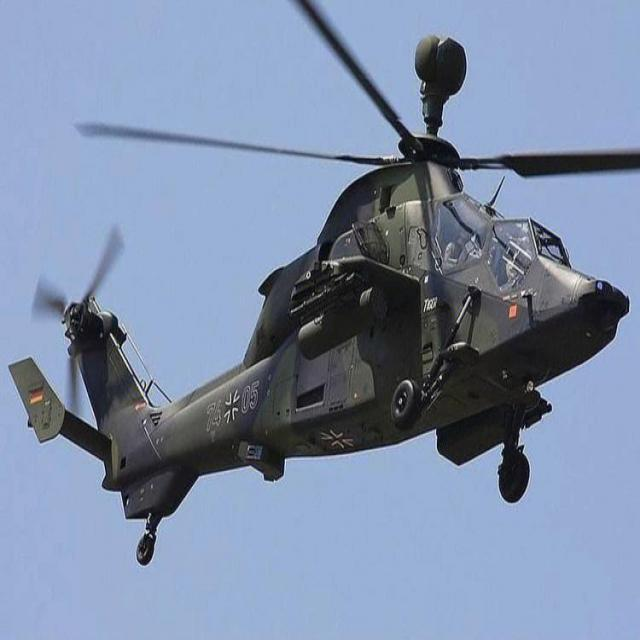MIL_HELO: (12, 0, 639, 563)
